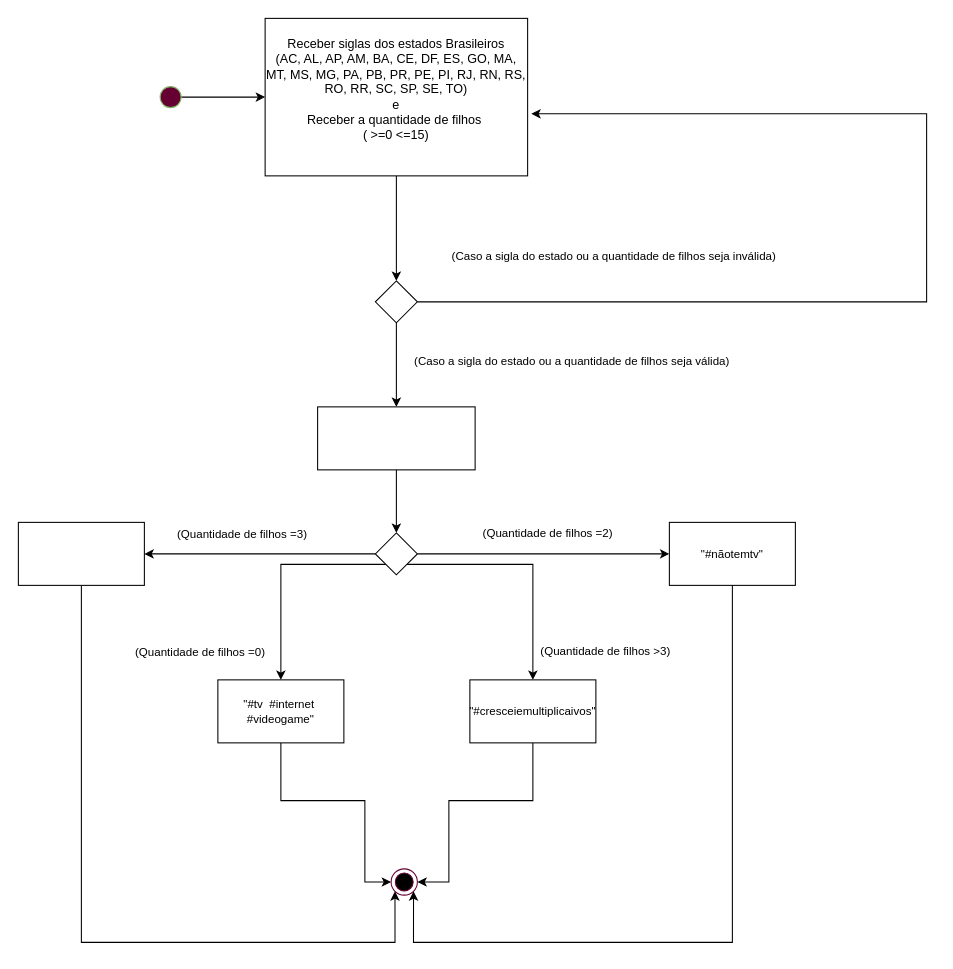
This 953x969 diagram has some shape labels left out. Here are the shapes that lost their labels. From the top down, the centre of each, then its label:
[396,438]: Exiba as seguintes opções
[80,553]: "#nãotemtv #nãoteminternet"
